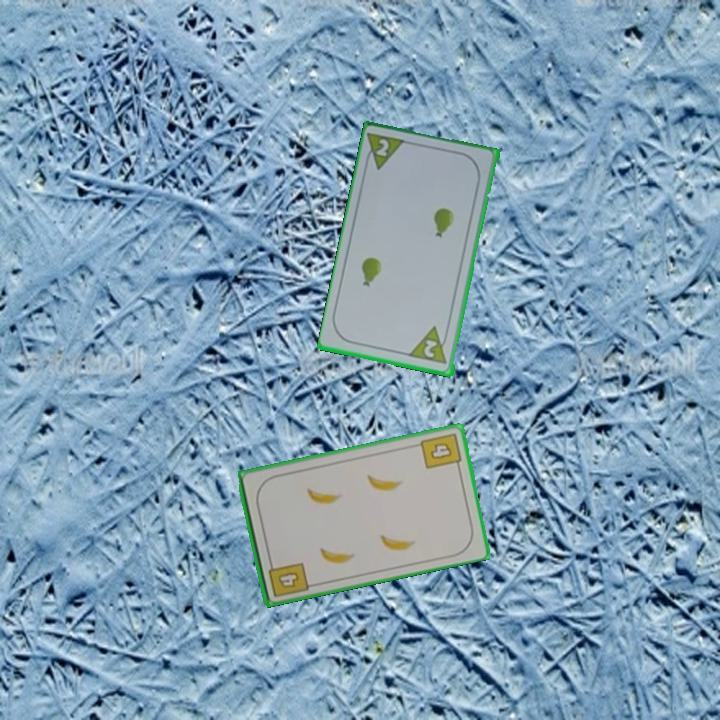2p: (361, 129, 410, 174), (420, 336, 441, 361)
4b: (264, 556, 311, 600), (417, 429, 464, 472)
